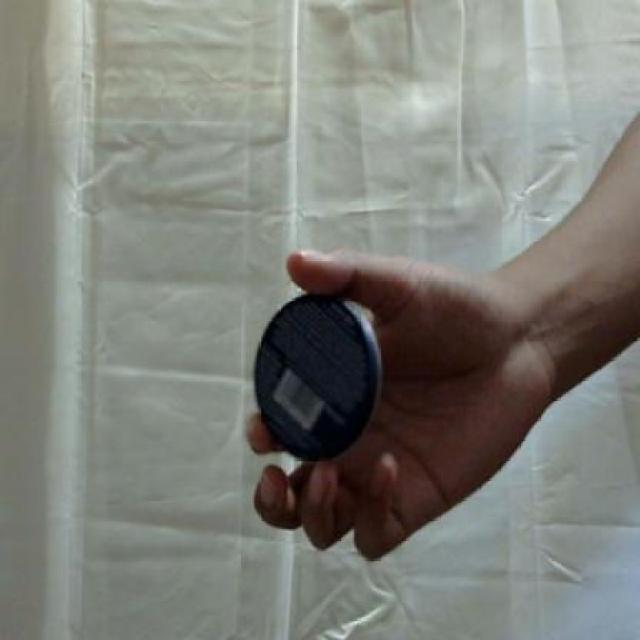Metal: (254, 290, 385, 463)
